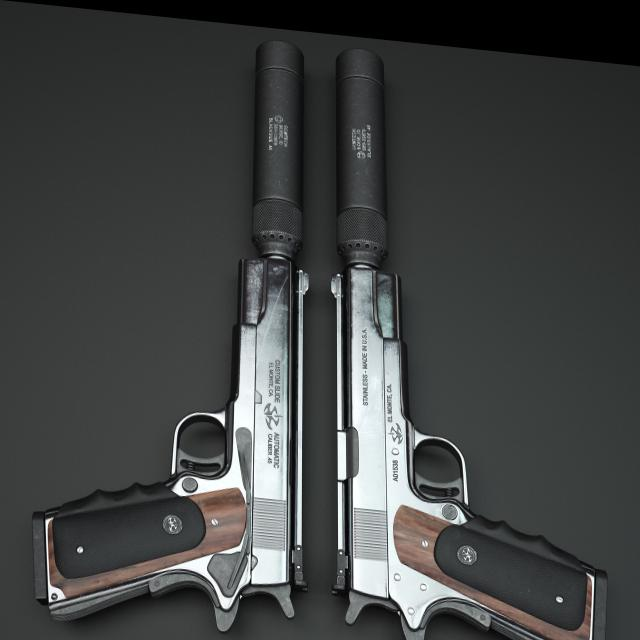handgun: (32, 20, 302, 632), (338, 45, 608, 640)
